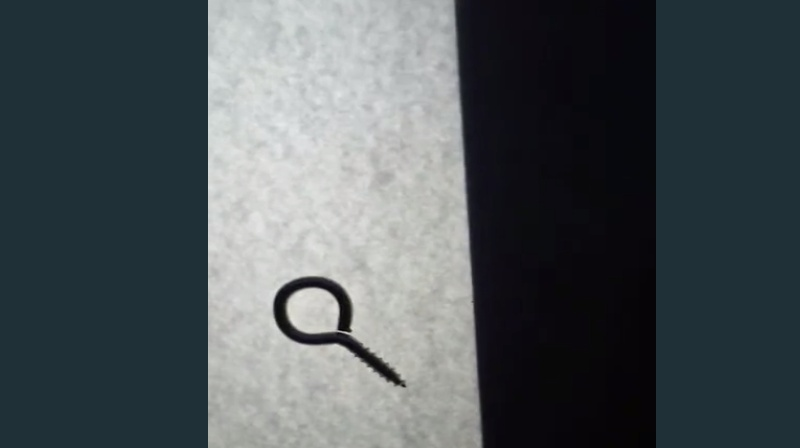O001: (271, 271, 409, 392)
